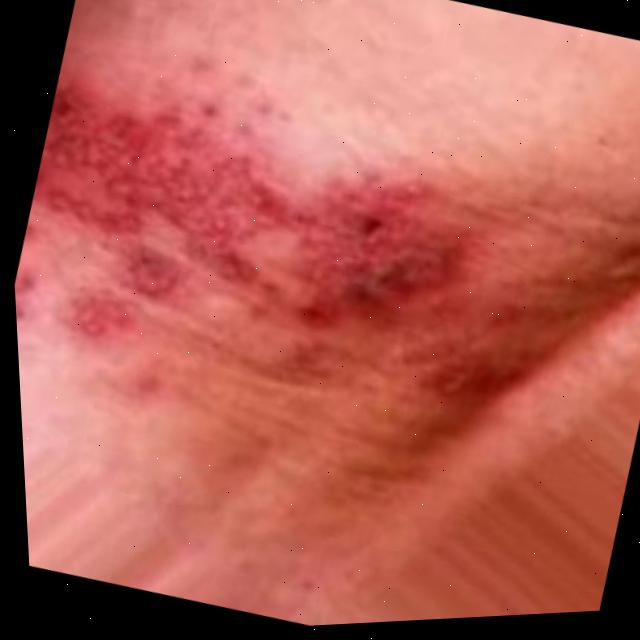Shingles: (4, 58, 499, 435)
